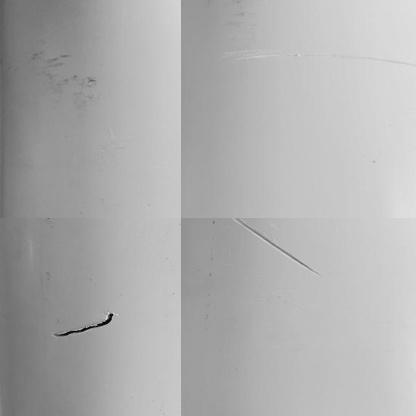fengxi: (48, 309, 123, 337)
sunshang: (229, 217, 319, 275)
